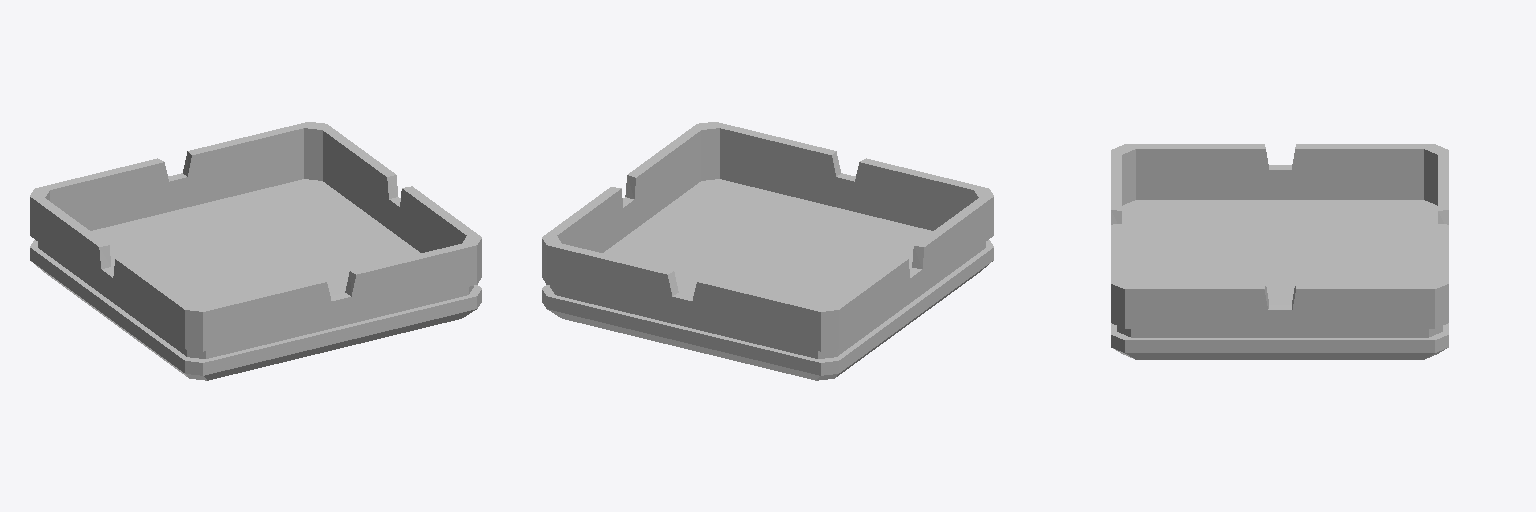
Rendered from Cinzeiro.obj.
3 renders of one model, left to right at view 1: azimuth 30°, elevation 25°; view 2: azimuth 150°, elevation 25°; view 3: azimuth 270°, elevation 25°, orthographic.
Parts seen in each view (by area): view 1: Cinzeiro:cinzeiro; view 2: Cinzeiro:cinzeiro; view 3: Cinzeiro:cinzeiro.
Part boxes in pixels (x1,y1,x2,y2): Cinzeiro:cinzeiro: (30,122,481,380); Cinzeiro:cinzeiro: (542,122,993,380); Cinzeiro:cinzeiro: (1111,144,1448,359).
Bounding box in the file's own units: 0.1948 × 0.0491 × 0.1917.